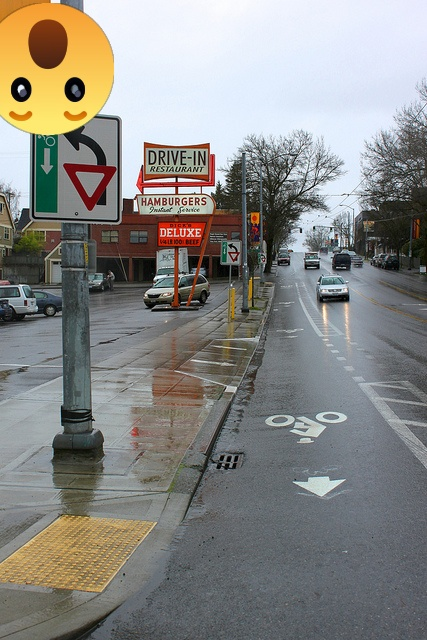wow: (0, 3, 114, 135)
